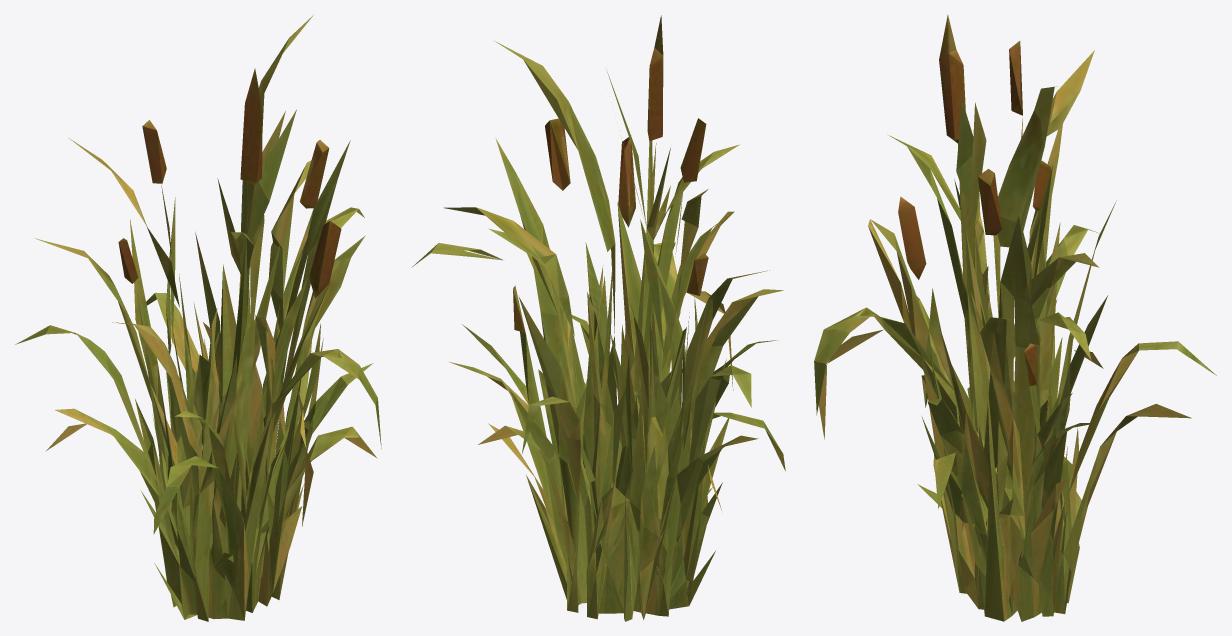
Rendered from VEG-008.glb.
3 renders of one model, left to right at view 1: azimuth 30°, elevation 25°; view 2: azimuth 150°, elevation 25°; view 3: azimuth 270°, elevation 25°, orthographic. The views are drawn at different scales.
Parts seen in each view (by area): view 1: VEG-008; view 2: VEG-008; view 3: VEG-008.
Boxes of the visible parts, x1,y1,x2,y2 form: VEG-008: [15, 15, 381, 621]; VEG-008: [411, 15, 785, 621]; VEG-008: [814, 14, 1216, 621].
Size of the model in its own units: 1.1 by 1.7 by 1.07.
1 material, 1 textured.
